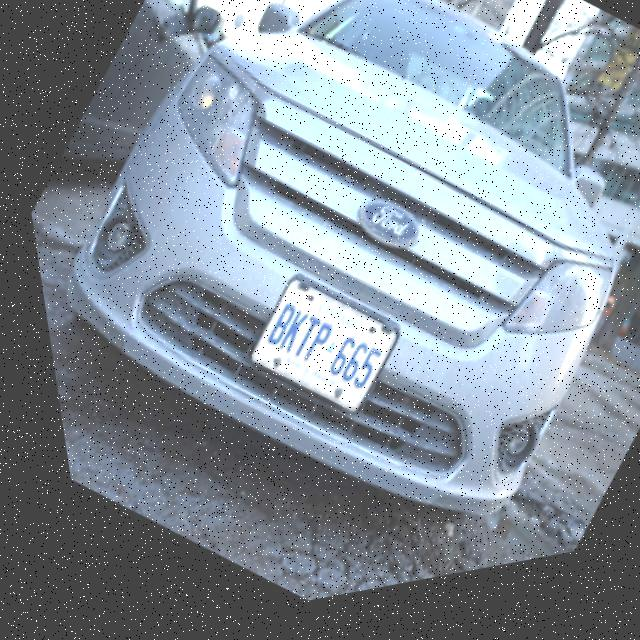license_plate: (230, 273, 393, 436)
